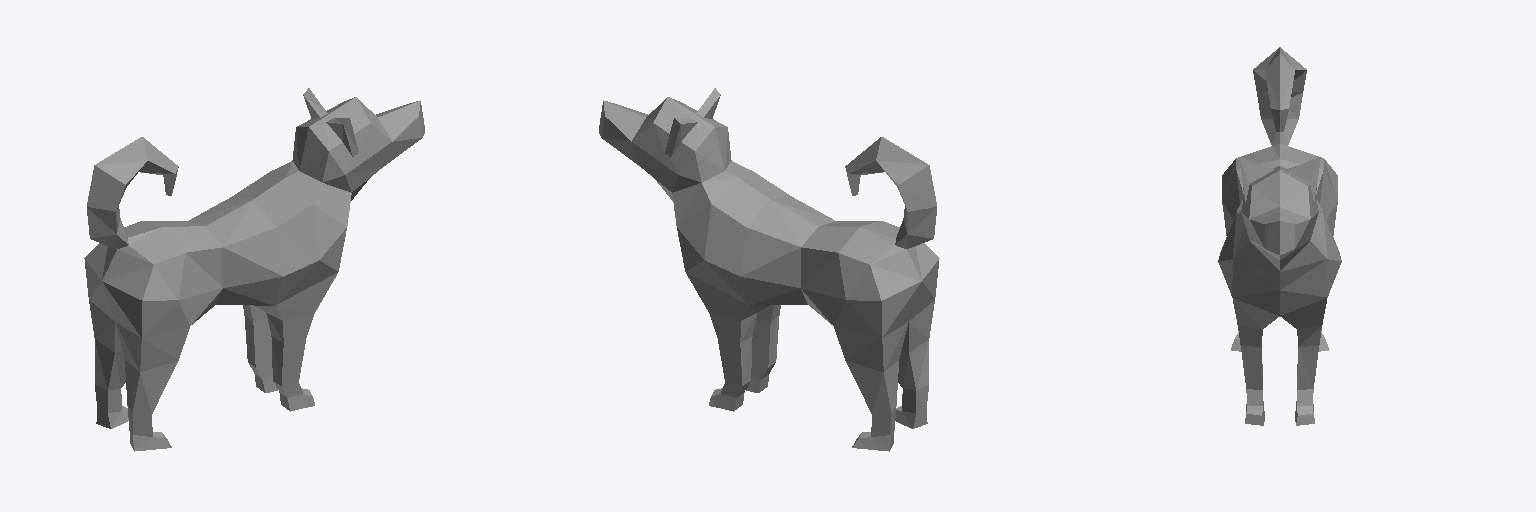
Rendered from dog.obj.
3 renders of one model, left to right at view 1: azimuth 30°, elevation 25°; view 2: azimuth 150°, elevation 25°; view 3: azimuth 270°, elevation 25°, orthographic.
Parts seen in each view (by area): view 1: dog_Icosphere.047; view 2: dog_Icosphere.047; view 3: dog_Icosphere.047.
Boxes of the visible parts, x1=… form: dog_Icosphere.047: x1=84, y1=88, x2=424, y2=451; dog_Icosphere.047: x1=599, y1=88, x2=939, y2=451; dog_Icosphere.047: x1=1218, y1=47, x2=1341, y2=425.
Bounding box in the file's own units: 1.86 × 1.54 × 0.5873.